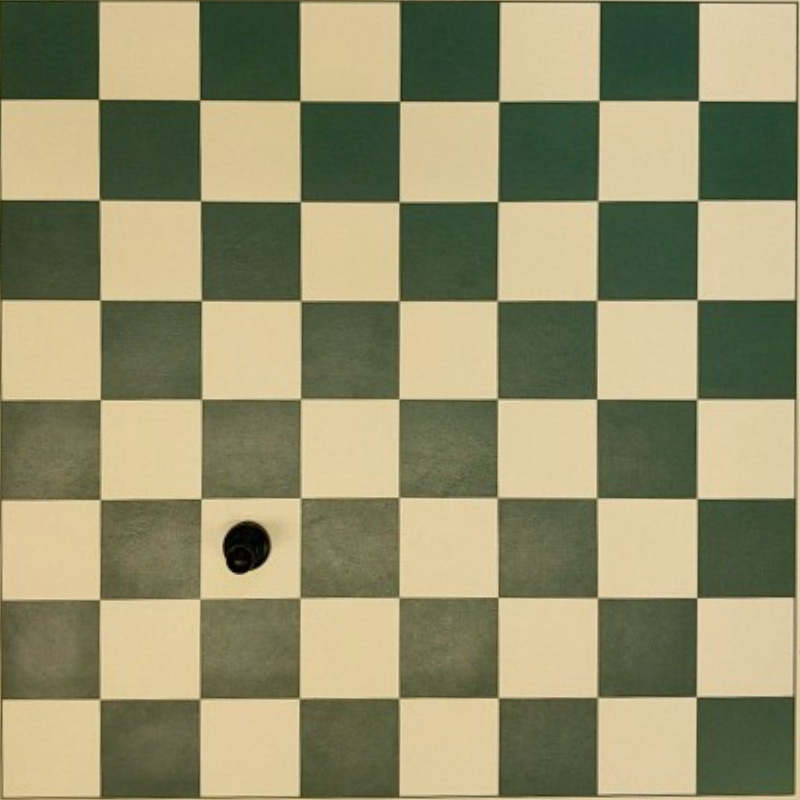black-pawn: (222, 520, 272, 574)
